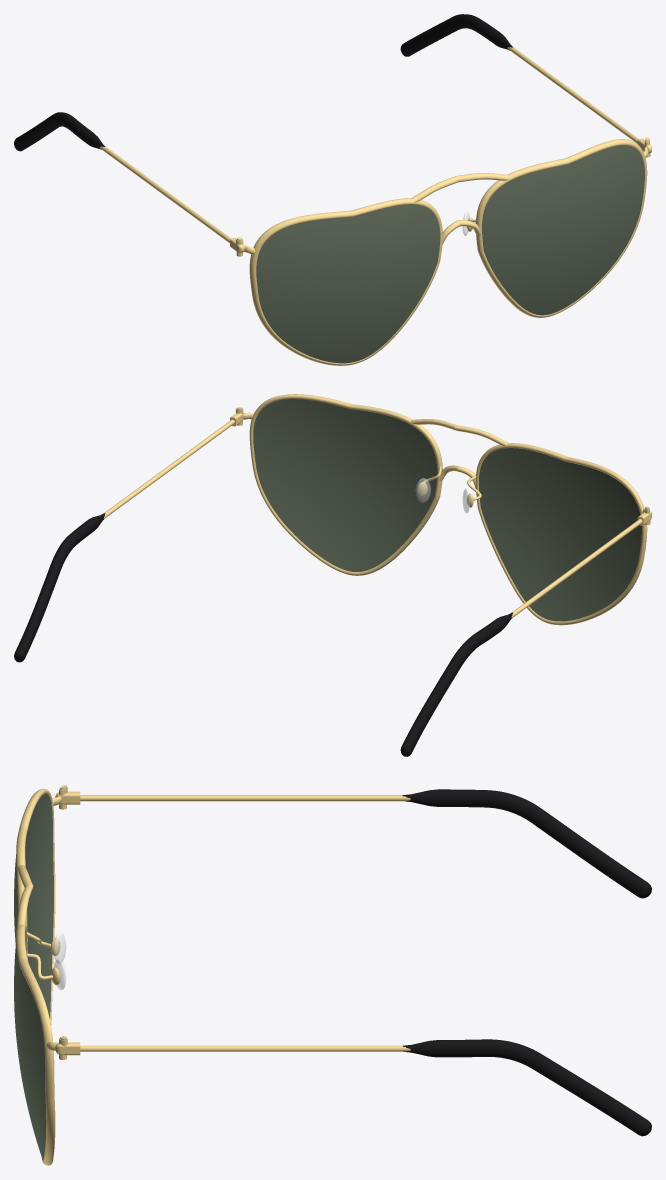
The model's file is pilot.glb.
3 renders of one model, top to bottom at view 1: azimuth 30°, elevation 25°; view 2: azimuth 150°, elevation 25°; view 3: azimuth 270°, elevation 25°, orthographic. The views are drawn at different scales.
Parts seen in each view (by area): view 1: lens_R, lens_L, frame, temple_L_tip, temple_R_tip, temple_R_body, temple_L_body; view 2: lens_L, lens_R, frame, temple_R_tip, temple_L_tip, temple_R_body, temple_L_body; view 3: frame, lens_R, temple_R_tip, temple_L_tip, lens_L, temple_L_body, temple_R_body.
Boxes of the visible parts, box(x1,y1,x2,y2) form: lens_R: box(256, 204, 440, 363); lens_L: box(482, 145, 644, 315); frame: box(235, 137, 649, 365); temple_L_tip: box(400, 14, 512, 56); temple_R_tip: box(14, 112, 104, 151); temple_R_body: box(99, 146, 244, 256); temple_L_body: box(507, 47, 651, 157); lens_L: box(253, 399, 437, 571); lens_R: box(479, 448, 641, 621); frame: box(235, 394, 649, 625); temple_R_tip: box(400, 612, 512, 756); temple_L_tip: box(14, 513, 105, 662); temple_R_body: box(511, 511, 651, 618); temple_L_body: box(104, 412, 243, 518); frame: box(16, 785, 67, 1165); lens_R: box(14, 794, 53, 1018); temple_R_tip: box(402, 789, 651, 898); temple_L_tip: box(402, 1039, 651, 1136); lens_L: box(14, 930, 46, 1159); temple_L_body: box(55, 1042, 410, 1059); temple_R_body: box(55, 791, 410, 809).
Bounding box in the file's own units: 0.1395 × 0.0539 × 0.1468.
